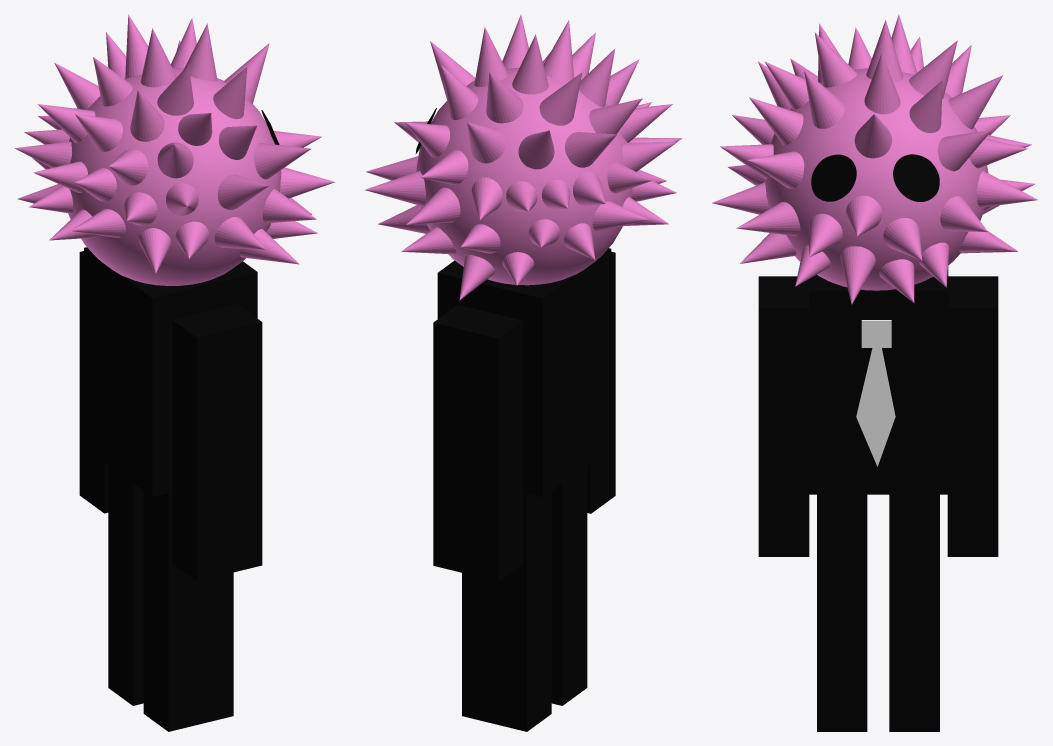
The model's file is dream-file.glb.
3 views of the same model, side by side, from view 1: azimuth 30°, elevation 25°; view 2: azimuth 150°, elevation 25°; view 3: azimuth 270°, elevation 25° (orthographic). The views are drawn at different scales.
Visible parts, largest first — view 1: SurfSphere, Cube.002, Cube.005, Cube.004, Cube.003, Cube.001; view 2: SurfSphere, Cube.001, Cube.005, Cube.003, Cube.004, Cube.002; view 3: SurfSphere, Cube.005, Cube.001, Cube.002, Cube.003, Cube.004.
Boxes of the visible parts, bbox=[...] form: SurfSphere: bbox=[15, 14, 335, 285]; Cube.002: bbox=[172, 304, 262, 581]; Cube.005: bbox=[84, 247, 257, 496]; Cube.004: bbox=[143, 491, 233, 731]; Cube.003: bbox=[108, 465, 143, 705]; Cube.001: bbox=[79, 251, 108, 513]; SurfSphere: bbox=[365, 14, 682, 300]; Cube.001: bbox=[433, 305, 522, 581]; Cube.005: bbox=[437, 248, 611, 497]; Cube.003: bbox=[462, 491, 551, 731]; Cube.004: bbox=[551, 465, 587, 705]; Cube.002: bbox=[587, 251, 615, 513]; SurfSphere: bbox=[712, 14, 1037, 304]; Cube.005: bbox=[809, 266, 948, 494]; Cube.001: bbox=[947, 276, 998, 556]; Cube.002: bbox=[758, 276, 809, 556]; Cube.003: bbox=[889, 494, 939, 731]; Cube.004: bbox=[817, 494, 867, 731].
Size of the model in its own units: 2.89 by 6.77 by 2.92.
